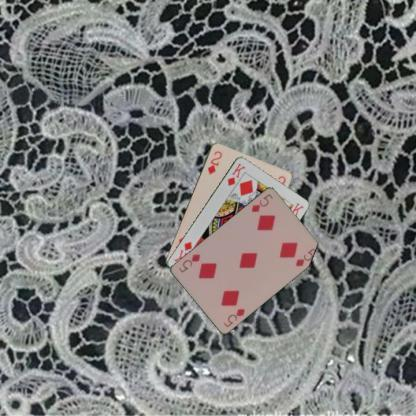2d: (205, 148, 223, 176)
5d: (220, 305, 246, 328), (249, 191, 274, 213)
Kd: (225, 160, 246, 186)
